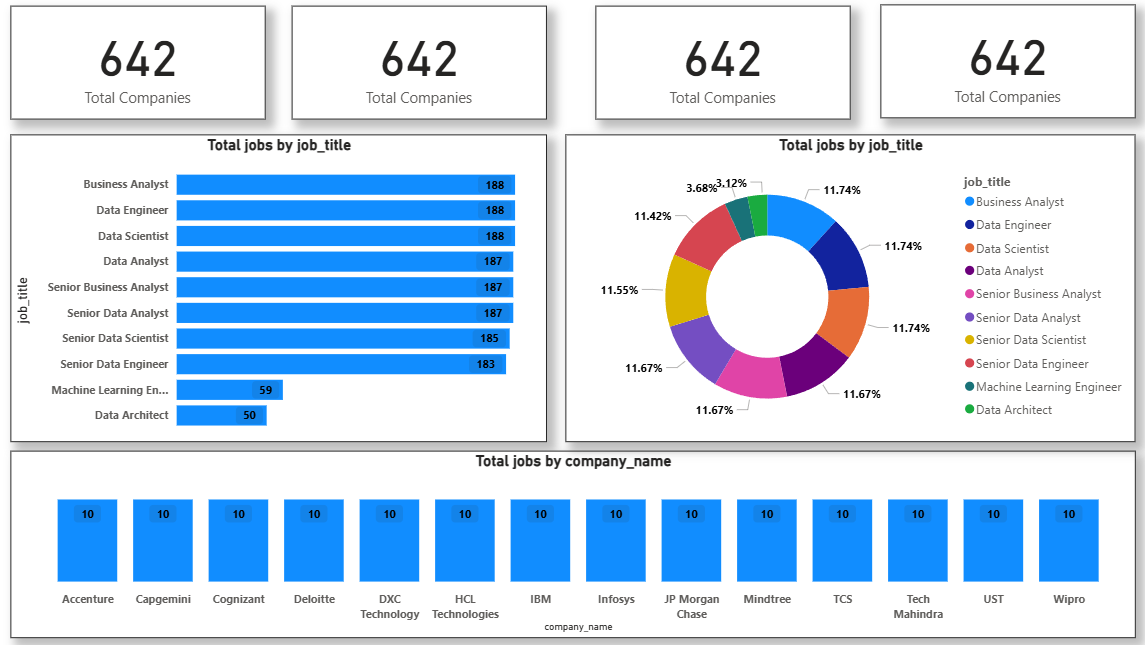

The page's visual inventory and layout, read from the dashboard file:
{"tool":"powerbi","page":{"name":"Job Market Overview","canvas":[1280,720],"ordinal":0},"visuals":[{"type":"card","fields":{"Values":["Measure Table.Total Companies"]},"box":[30.2,15.1,279.9,124.9],"z":0},{"type":"card","fields":{"Values":["Measure Table.Total Companies"]},"box":[985.3,13.7,279.9,124.9],"z":1000},{"type":"card","fields":{"Values":["Measure Table.Total Companies"]},"box":[672.4,15.1,279.9,124.9],"z":2000},{"type":"card","fields":{"Values":["Measure Table.Total Companies"]},"box":[338.9,15.1,279.9,124.9],"z":3000},{"type":"clusteredBarChart","fields":{"Y":["Measure Table.Total jobs"],"Category":["Data.job_title"]},"box":[30.2,156.4,588.7,337.6],"z":4000},{"type":"clusteredColumnChart","fields":{"Y":["Measure Table.Total jobs"],"Category":["Data.company_name"]},"box":[30.2,503.6,1235,205.8],"z":5000},{"type":"donutChart","fields":{"Y":["Measure Table.Total jobs"],"Category":["Data.job_title"]},"box":[639.5,156.4,625.7,337.6],"z":6000}]}

Visuals, with their boxes in screenshot pixels (x1, y1, x2, y2), scaled from the page's 1280x720 canvas onto the 1145x645 screenshot:
card - Measure Table.Total Companies: bbox=[27, 14, 277, 125]
card - Measure Table.Total Companies: bbox=[881, 12, 1132, 124]
card - Measure Table.Total Companies: bbox=[601, 14, 852, 125]
card - Measure Table.Total Companies: bbox=[303, 14, 554, 125]
clusteredBarChart - Measure Table.Total jobs x Data.job_title: bbox=[27, 140, 554, 443]
clusteredColumnChart - Measure Table.Total jobs x Data.company_name: bbox=[27, 451, 1132, 636]
donutChart - Measure Table.Total jobs x Data.job_title: bbox=[572, 140, 1132, 443]
